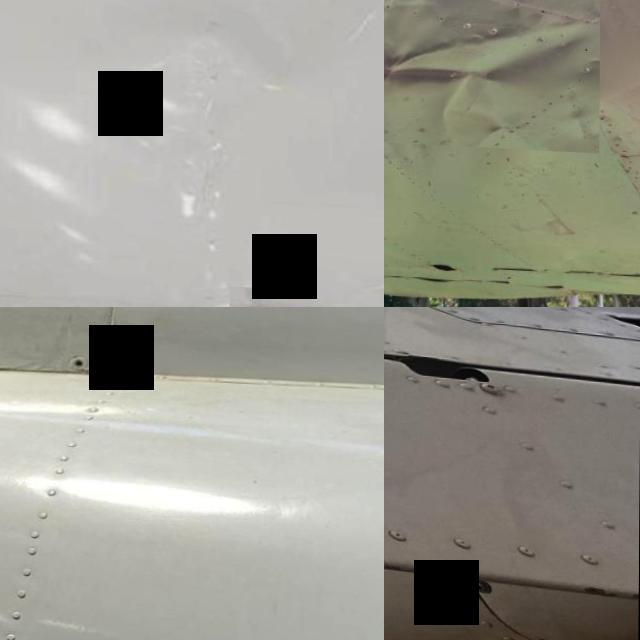Crack: (404, 348, 454, 360)
Dent: (384, 0, 600, 149)
Missing_Fastener: (71, 356, 88, 366), (110, 328, 126, 338)
